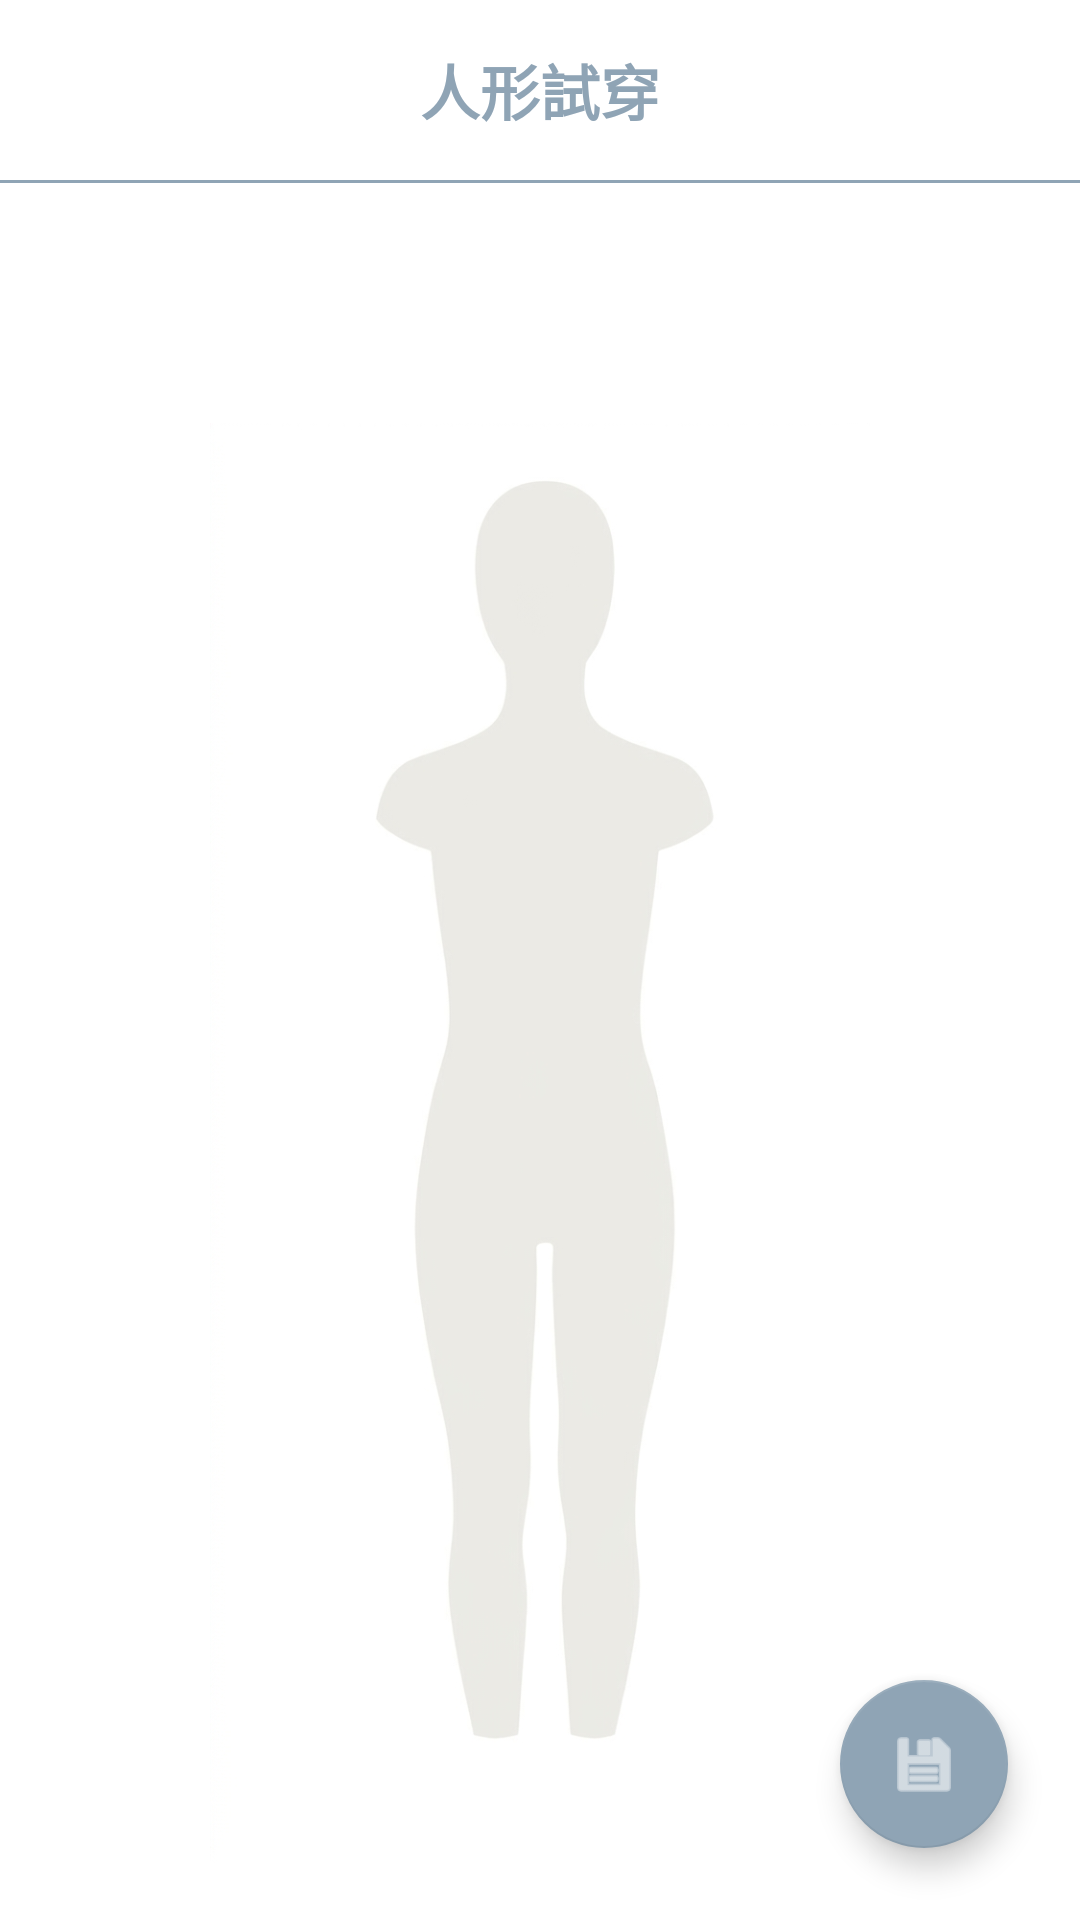

Named icons in this screenshot (1080 × 1920) and their centers, (x=x, y=y):
save: (x=924, y=1764)
